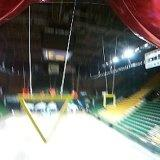Orange_Square_GShape: (22, 89, 29, 98)
Yellow_Square_GShape: (103, 94, 116, 108)
Yellow_Triangle_Gshape: (17, 94, 74, 144)
